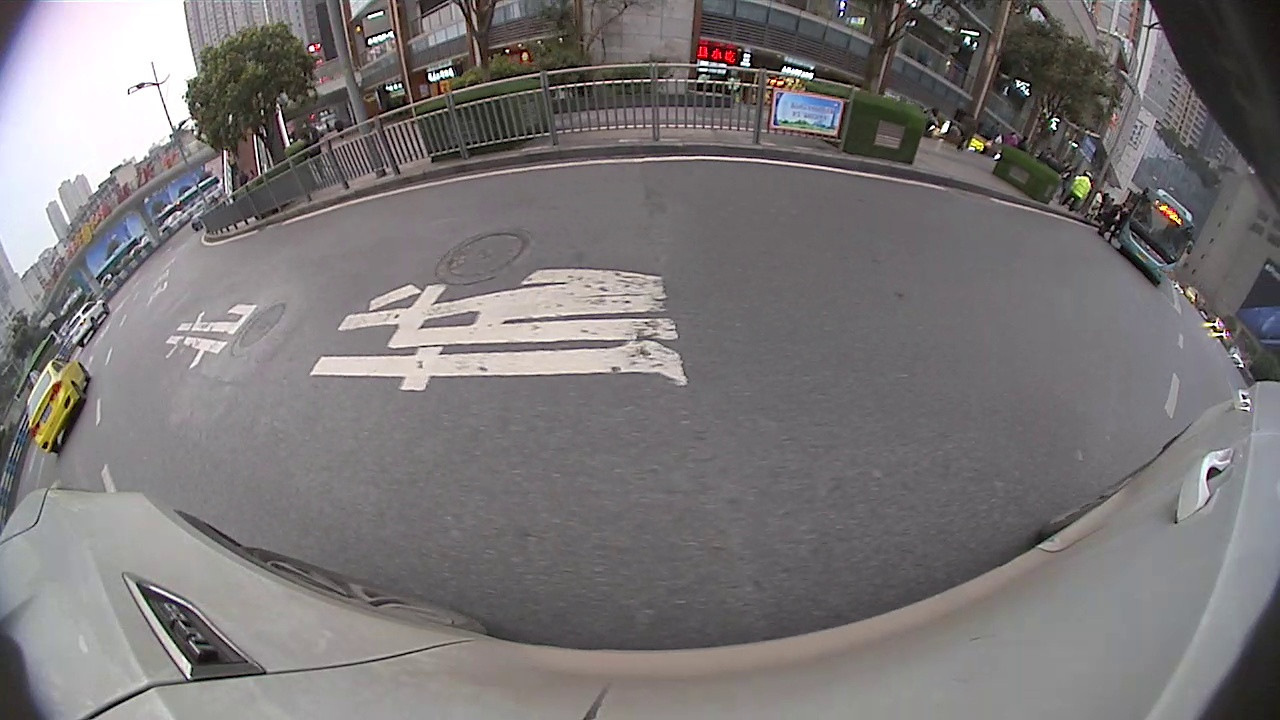bus: (1117, 185, 1196, 285)
car: (25, 357, 92, 455), (65, 298, 111, 348)
person: (1072, 168, 1089, 213)
